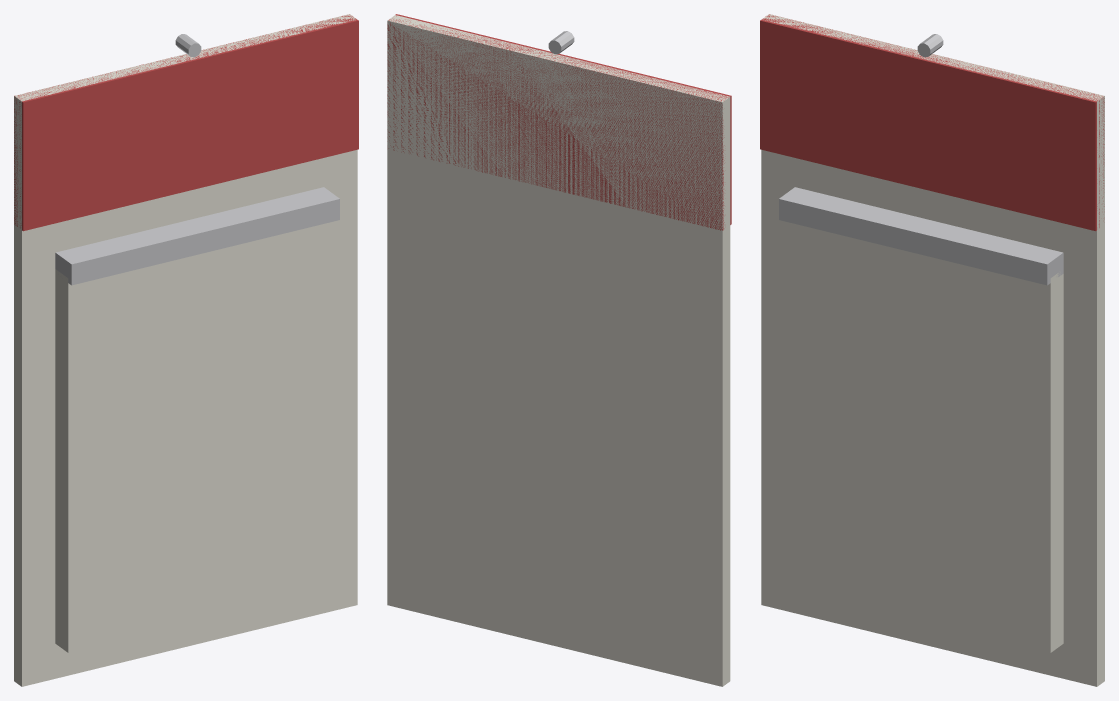
The model's file is SM_WallCalendar.fbx.
3 renders of one model, left to right at view 1: azimuth 30°, elevation 25°; view 2: azimuth 150°, elevation 25°; view 3: azimuth 330°, elevation 25°, orthographic.
Visible parts, largest first — view 1: SM_WallCalendar; view 2: SM_WallCalendar; view 3: SM_WallCalendar.
Part boxes in pixels (x1=…): SM_WallCalendar: x1=14, y1=14, x2=358, y2=686; SM_WallCalendar: x1=387, y1=14, x2=731, y2=686; SM_WallCalendar: x1=760, y1=14, x2=1104, y2=686.
Bounding box in the file's own units: 30 × 3.7 × 51.8.
